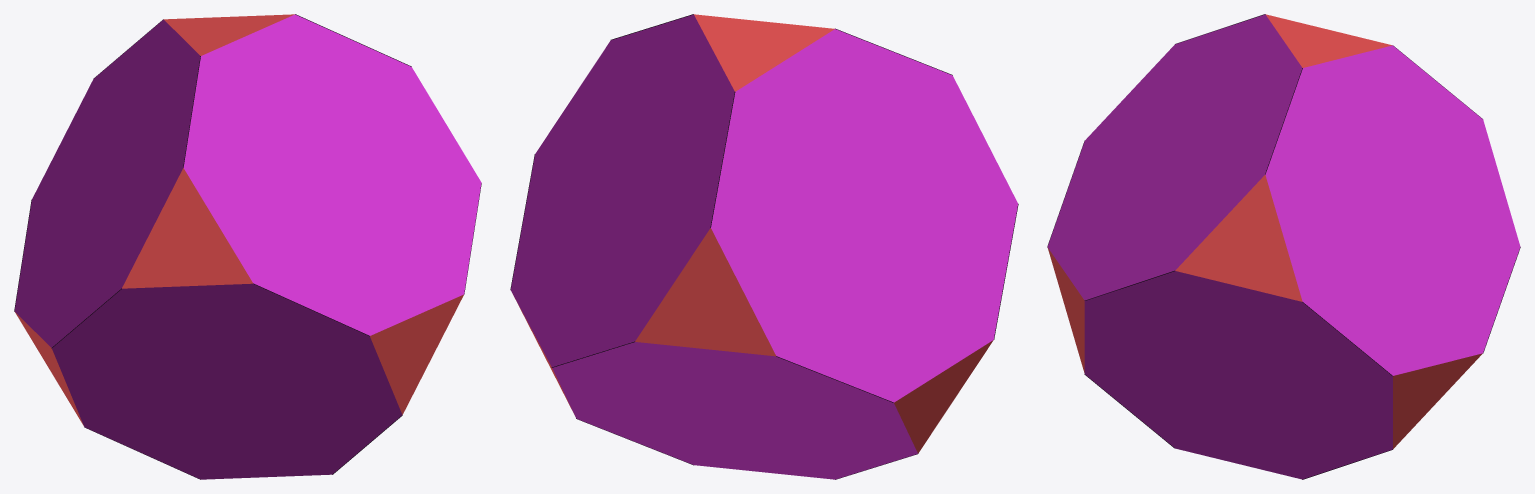
3 views of the same model, side by side, from view 1: azimuth 30°, elevation 25°; view 2: azimuth 150°, elevation 25°; view 3: azimuth 270°, elevation 25° (orthographic). The views are drawn at different scales.
Parts seen in each view (by area): view 1: VIFS002, VIFS001, VILS001; view 2: VIFS002, VIFS001, VILS001; view 3: VIFS002, VIFS001, VILS001.
Boxes of the visible parts, x1=… form: VIFS002: x1=14, y1=14, x2=481, y2=479; VIFS001: x1=15, y1=14, x2=463, y2=425; VILS001: x1=14, y1=14, x2=481, y2=479; VIFS002: x1=511, y1=14, x2=1017, y2=479; VIFS001: x1=515, y1=14, x2=993, y2=453; VILS001: x1=510, y1=14, x2=1018, y2=479; VIFS002: x1=1047, y1=14, x2=1520, y2=479; VIFS001: x1=1048, y1=14, x2=1482, y2=448; VILS001: x1=1047, y1=14, x2=1520, y2=479.
Bounding box in the file's own units: 2.04 × 2 × 2.09.
